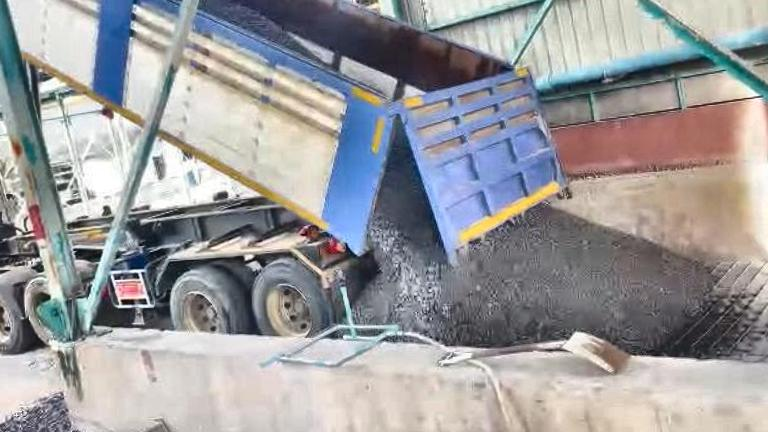gravel: (355, 138, 714, 352), (201, 0, 315, 58), (0, 394, 87, 432)
